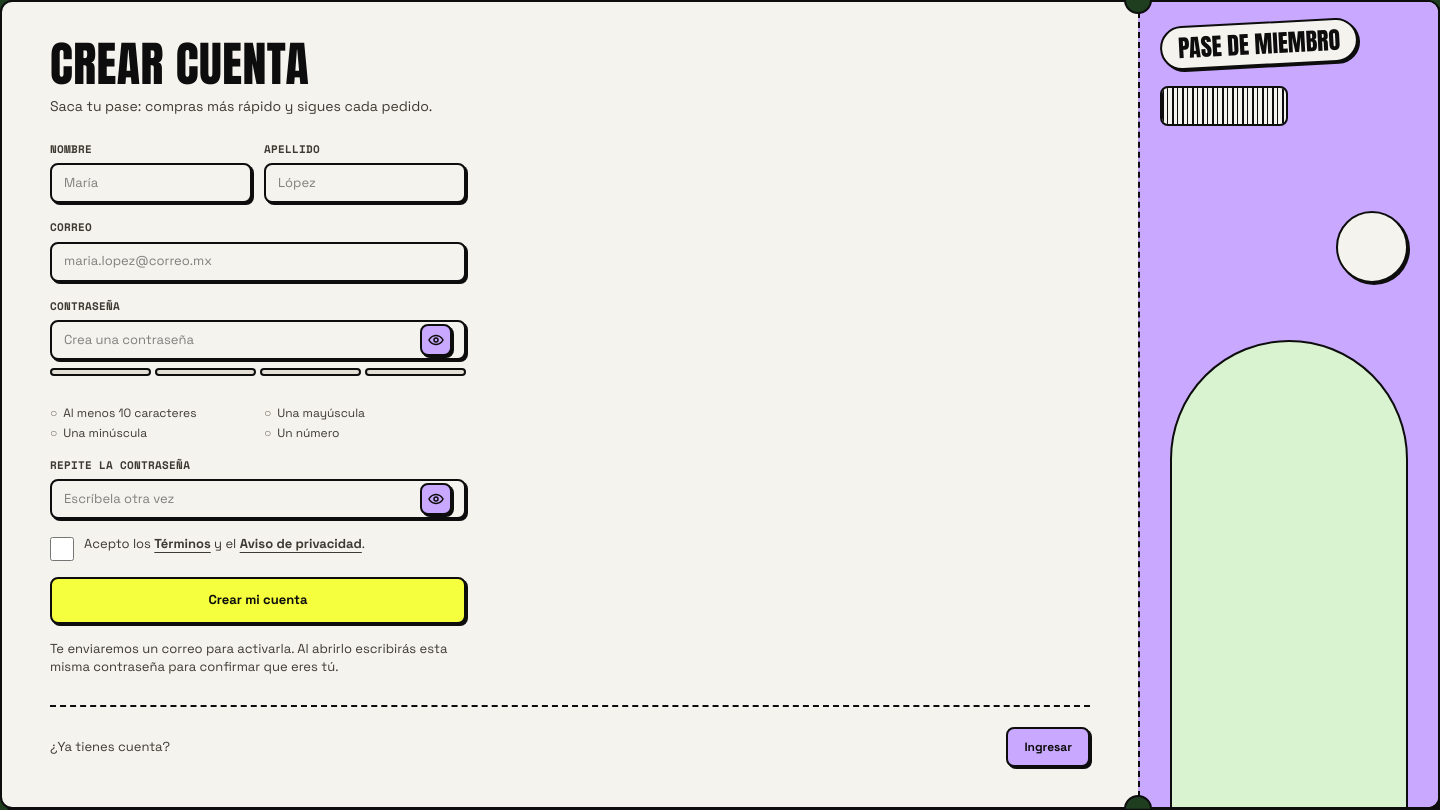
Scenario: RegisterFlow › el medidor y la checklist avanzan al escribir
Expected: the text "Una mayúscula" is shown, [277, 405, 365, 421]
Type "Gira2026xyz" into the password field labelled "Contraseña" at (238, 340), box [64, 331, 412, 349]
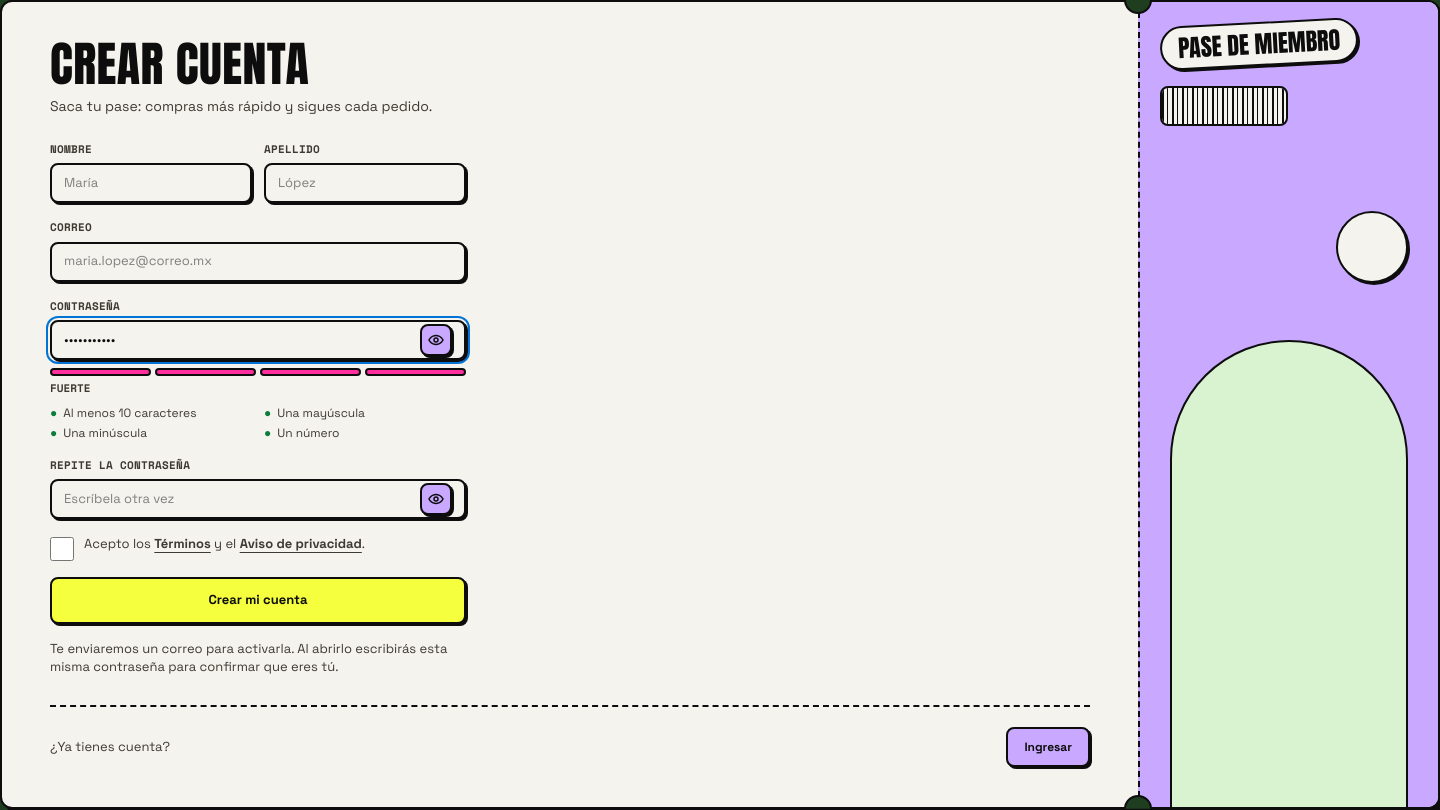
Now the text "Fuerte" is shown, box [50, 380, 90, 396]
